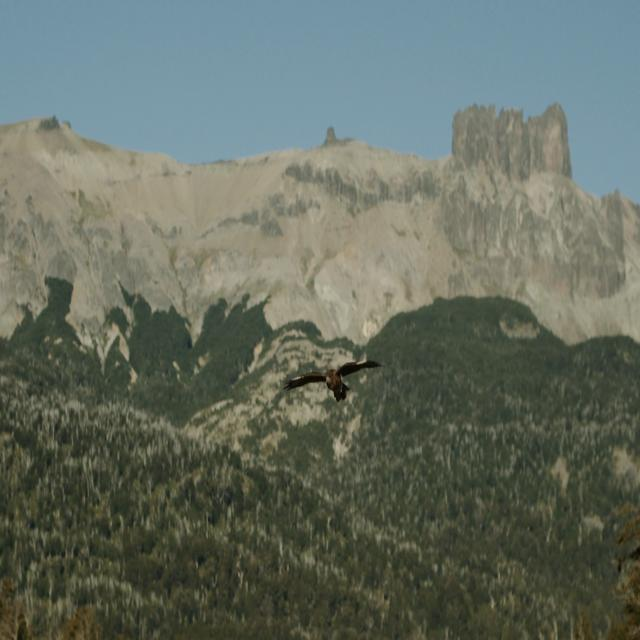bird: (274, 353, 385, 413)
